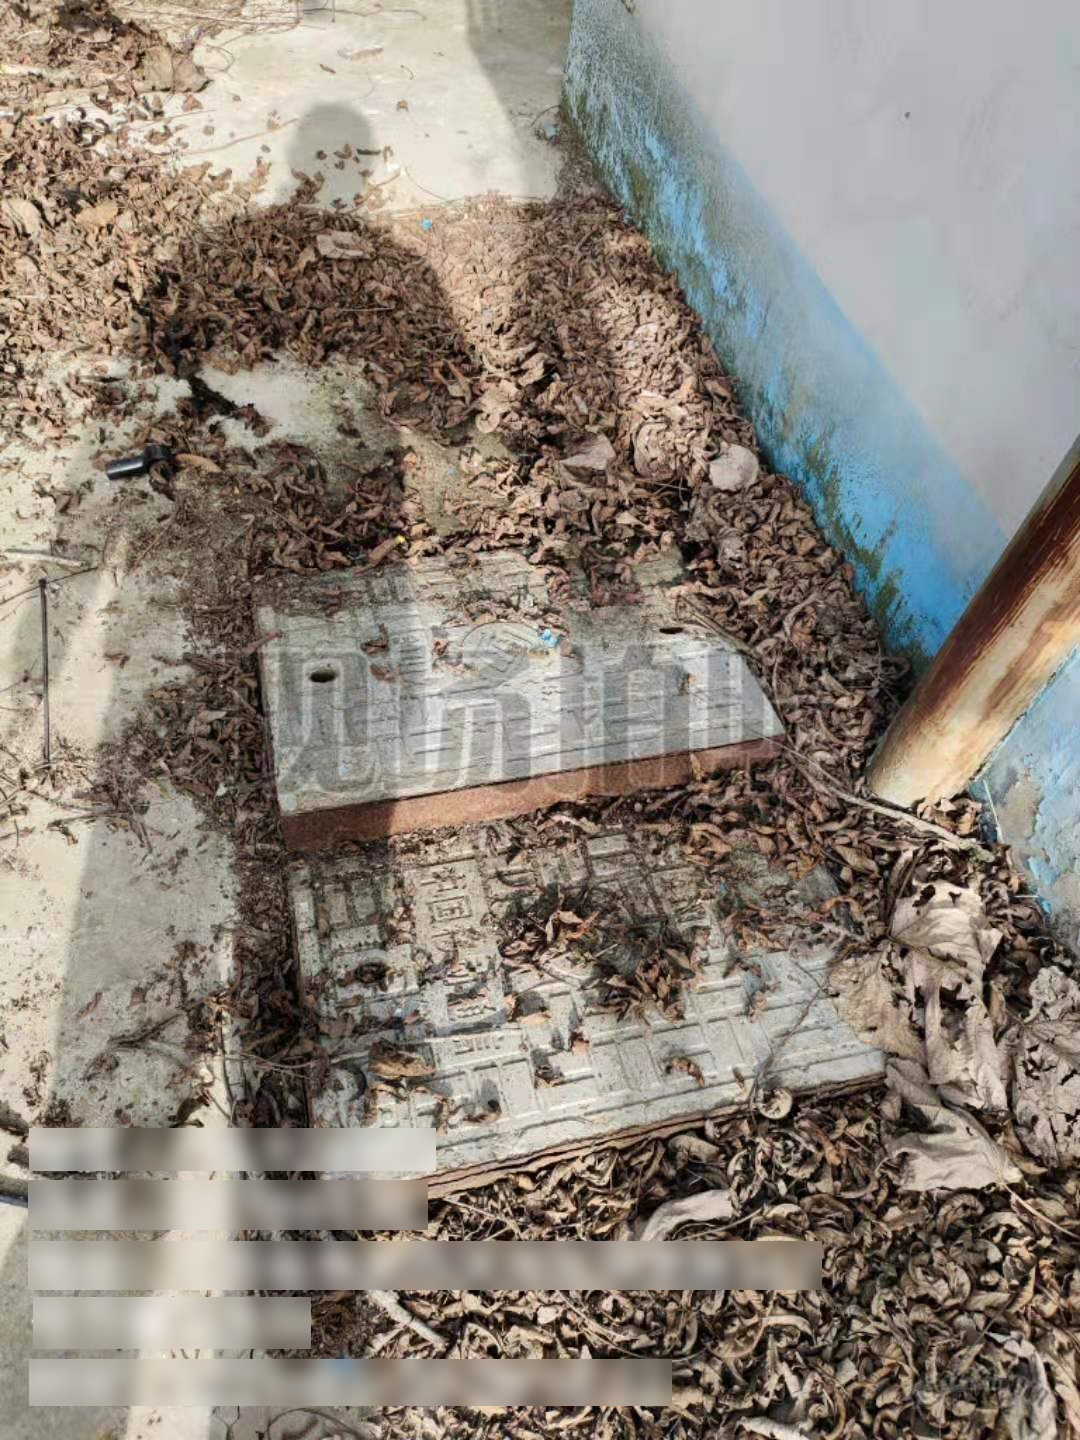uncovered: (245, 536, 900, 1198)
